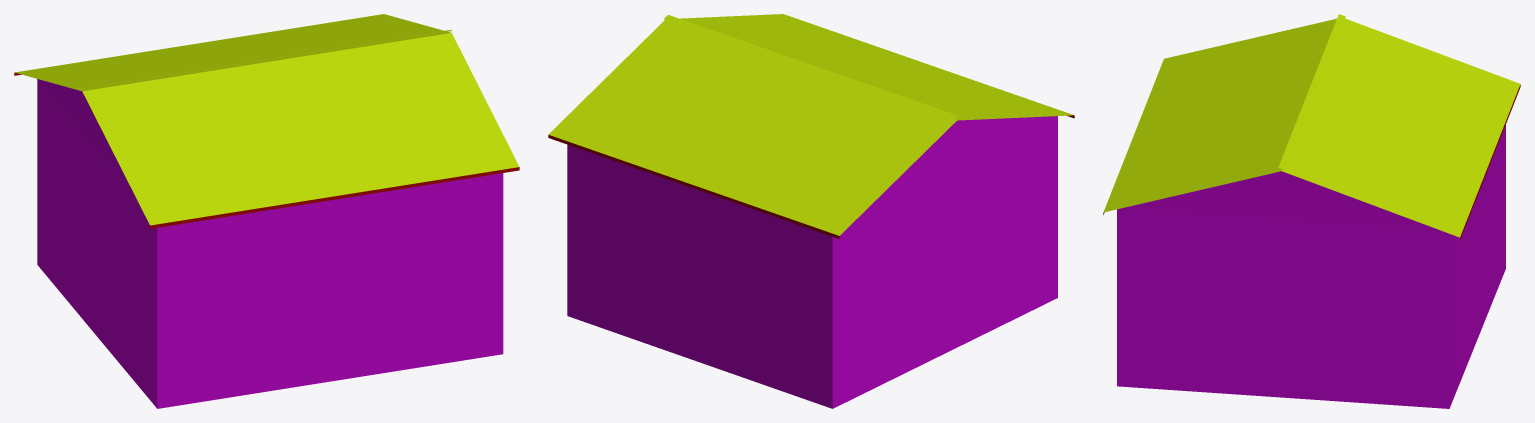
Rendered from bgj_401.glb.
The picture shows the model from 3 angles, left to right: view 1: azimuth 30°, elevation 25°; view 2: azimuth 150°, elevation 25°; view 3: azimuth 270°, elevation 25°; orthographic projection. The views are drawn at different scales.
Visible parts, largest first — view 1: bgj_401; view 2: bgj_401; view 3: bgj_401.
Boxes of the visible parts, bbox=[...] form: bgj_401: bbox=[14, 14, 519, 408]; bgj_401: bbox=[548, 14, 1074, 408]; bgj_401: bbox=[1103, 14, 1520, 408].
Bounding box in the file's own units: 14.46 × 8.85 × 14.25.
